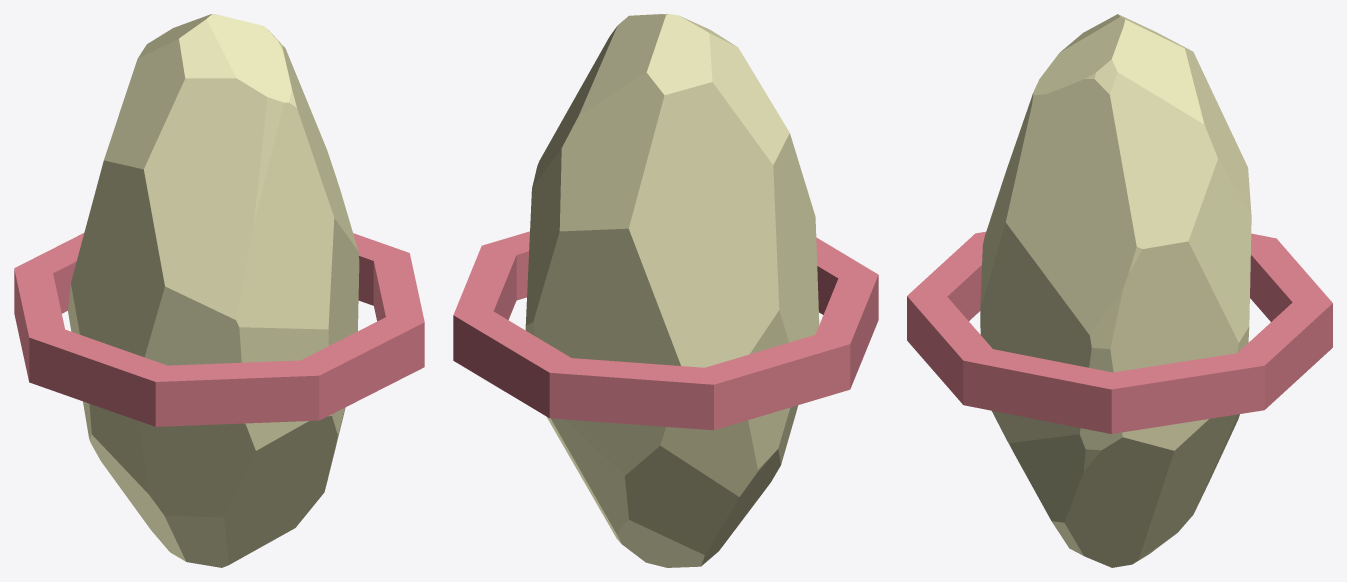
Rendered from crystal02.fbx.
3 views of the same model, side by side, from view 1: azimuth 30°, elevation 25°; view 2: azimuth 150°, elevation 25°; view 3: azimuth 270°, elevation 25° (orthographic). The views are drawn at different scales.
Parts seen in each view (by area): view 1: light crystal.001; view 2: light crystal.001; view 3: light crystal.001.
Part boxes in pixels (bbox=[...]): light crystal.001: bbox=[14, 14, 424, 567]; light crystal.001: bbox=[453, 14, 878, 567]; light crystal.001: bbox=[907, 14, 1332, 567].
Size of the model in its own units: 122 by 169 by 122.
